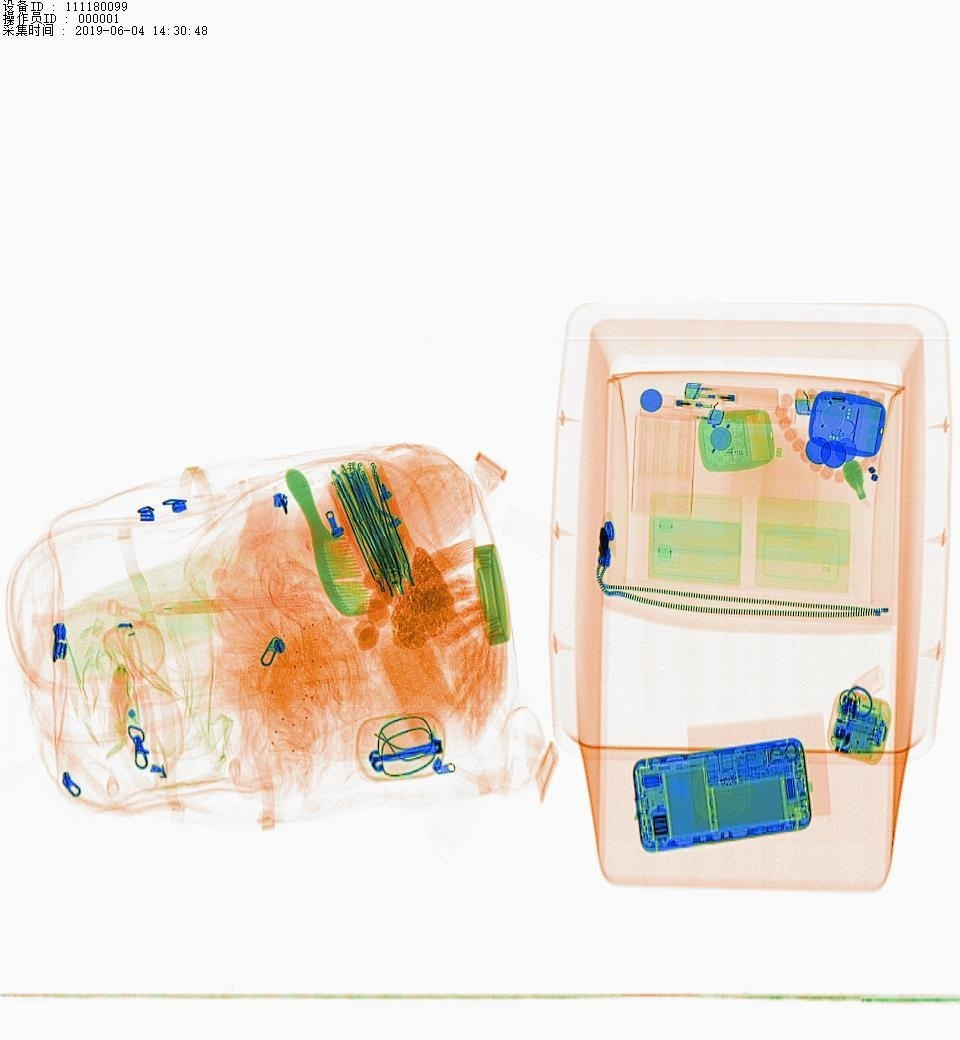NonmetallicFire: (636, 376, 798, 424), (778, 384, 893, 418)
